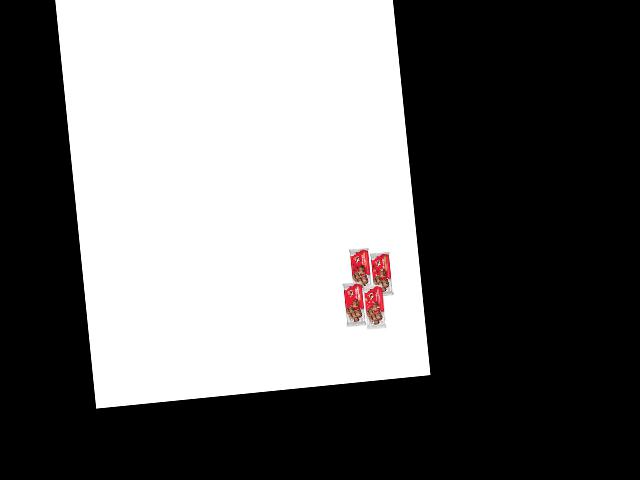chocolate: (365, 247, 396, 300)
